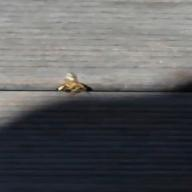Bee: (43, 66, 100, 101)
